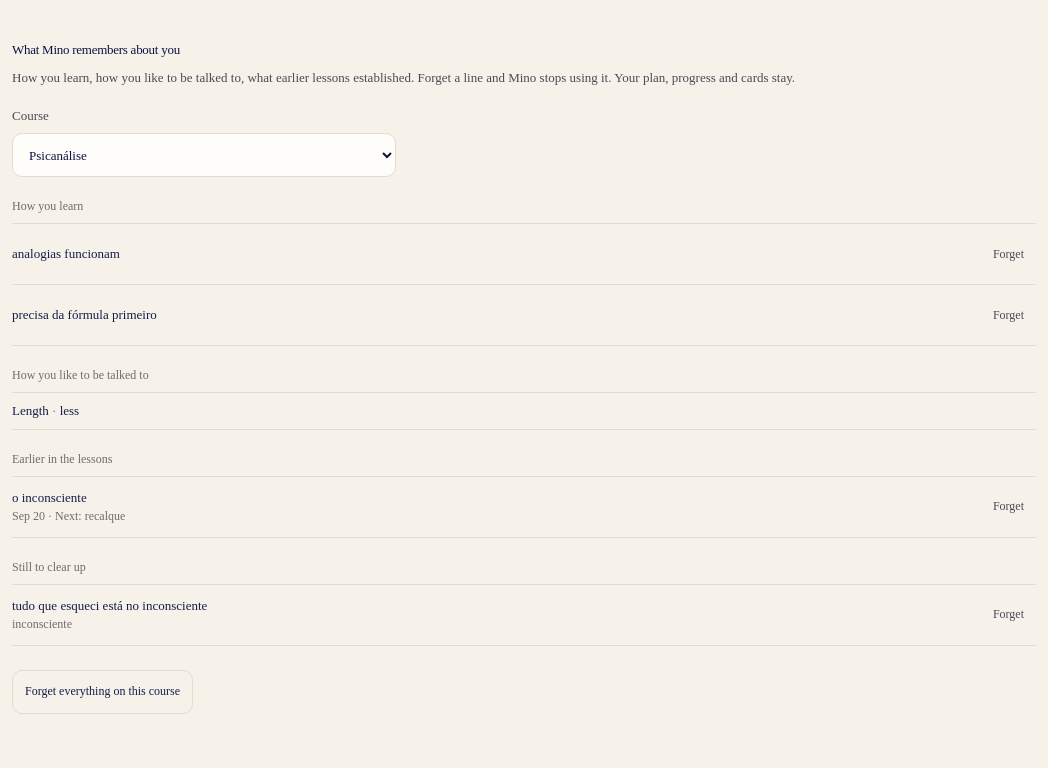
Test case: MemorySection › forgets one line and re-reads the list from the server
Expected: the text "analogias funcionam" is shown, [12,244,120,264]
Click the button with aria-label "Forget: analogias funcionam".
click(1008, 254)  # box [981,232,1036,276]
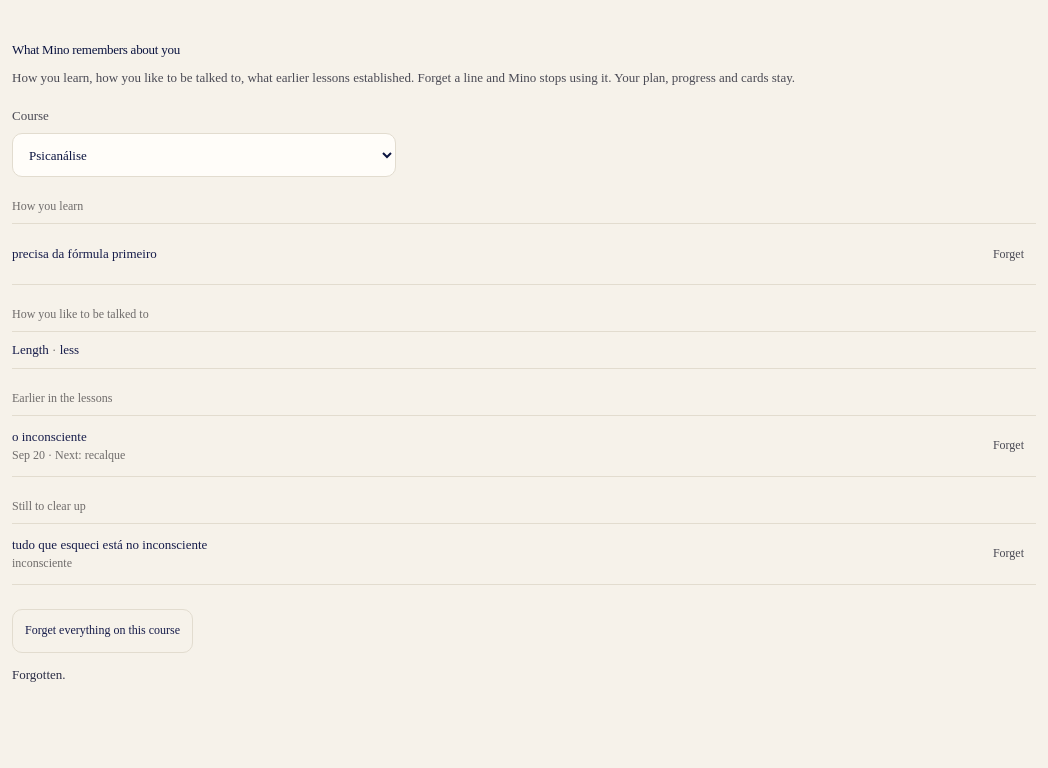
Result: the text "analogias funcionam" is gone
Result: the message reads "Forgotten." at [12,666,66,682]
